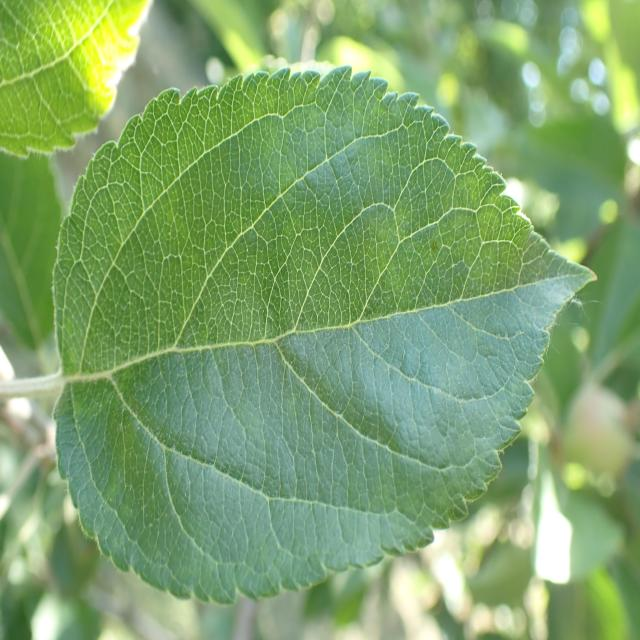healthy: (53, 64, 595, 604), (0, 0, 153, 161)
